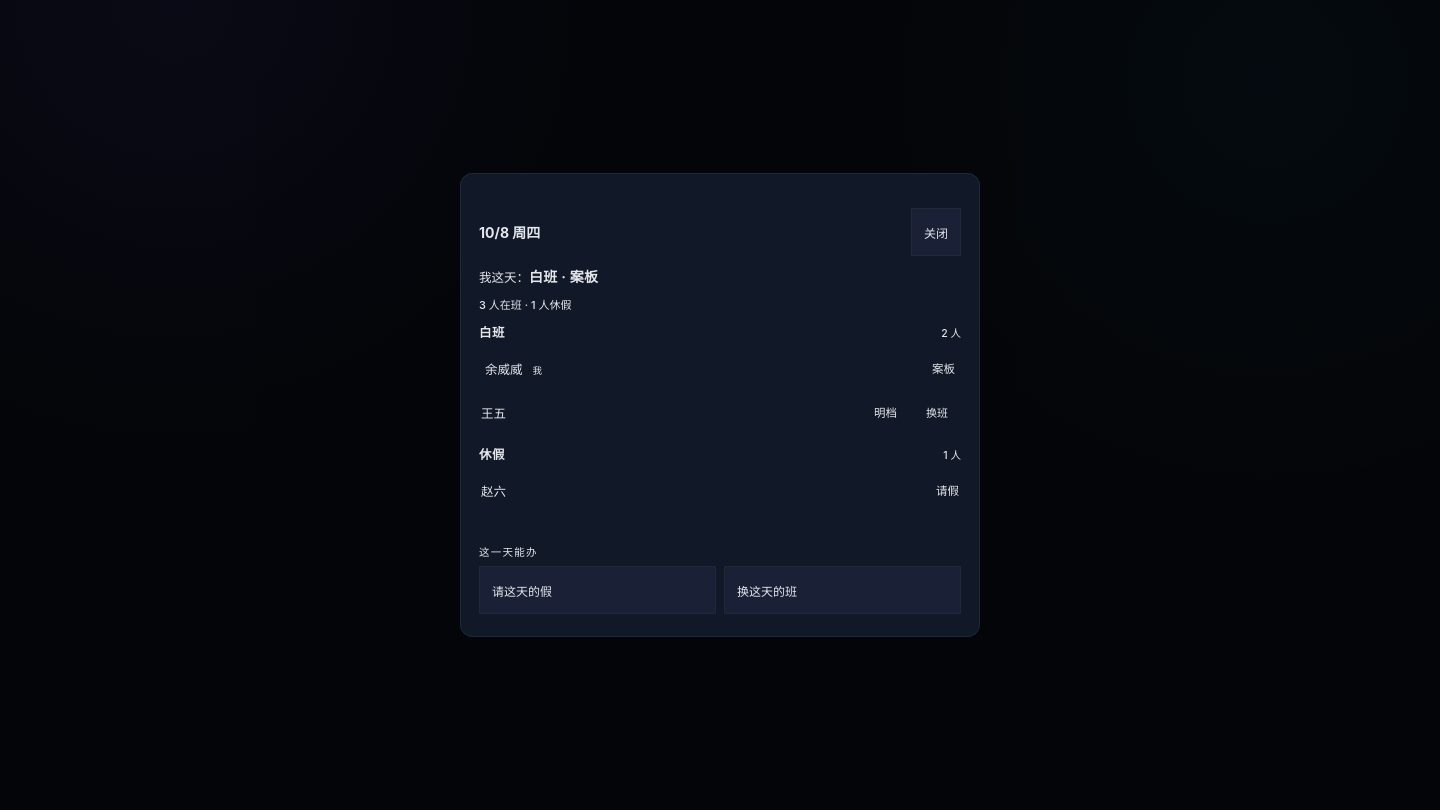
it: 某一天的操作单：点开一天就能把那天的事办掉（票 15） › 点「换这天的班」：先给那天在班的人（去掉我自己），点一个人才有提交
The width and height of the screenshot is (1440, 810).
Click the button "换这天的班" at (842, 590), box [724,566,961,614]
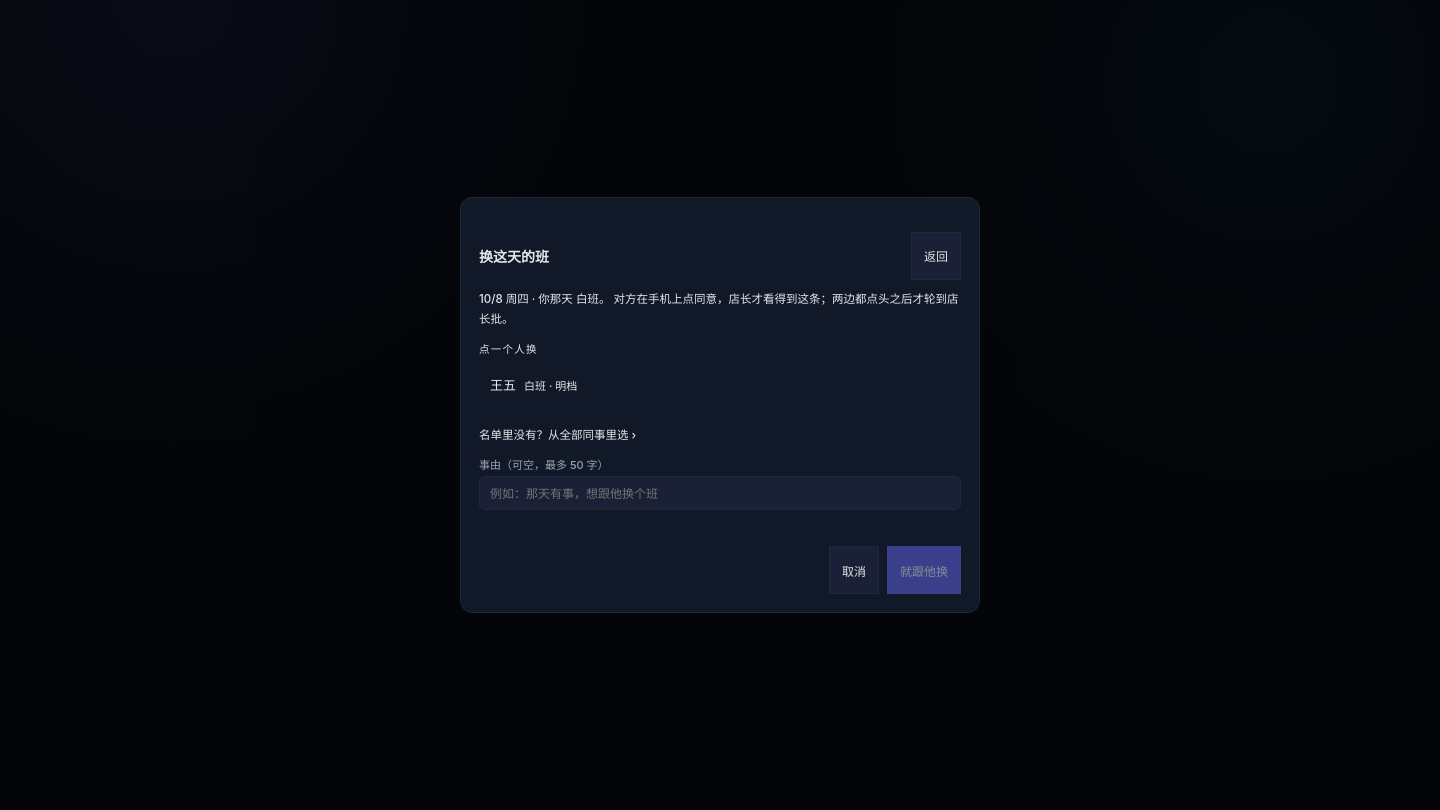
Check: the number of buttons with class "ds-person" is 1
Check: the button with class "ds-person" shows "王五"
Check: the button with class "ds-person" shows "白班 · 明档"
Click the button "王五 白班 · 明档" at (551, 386), box [479,366,961,412]
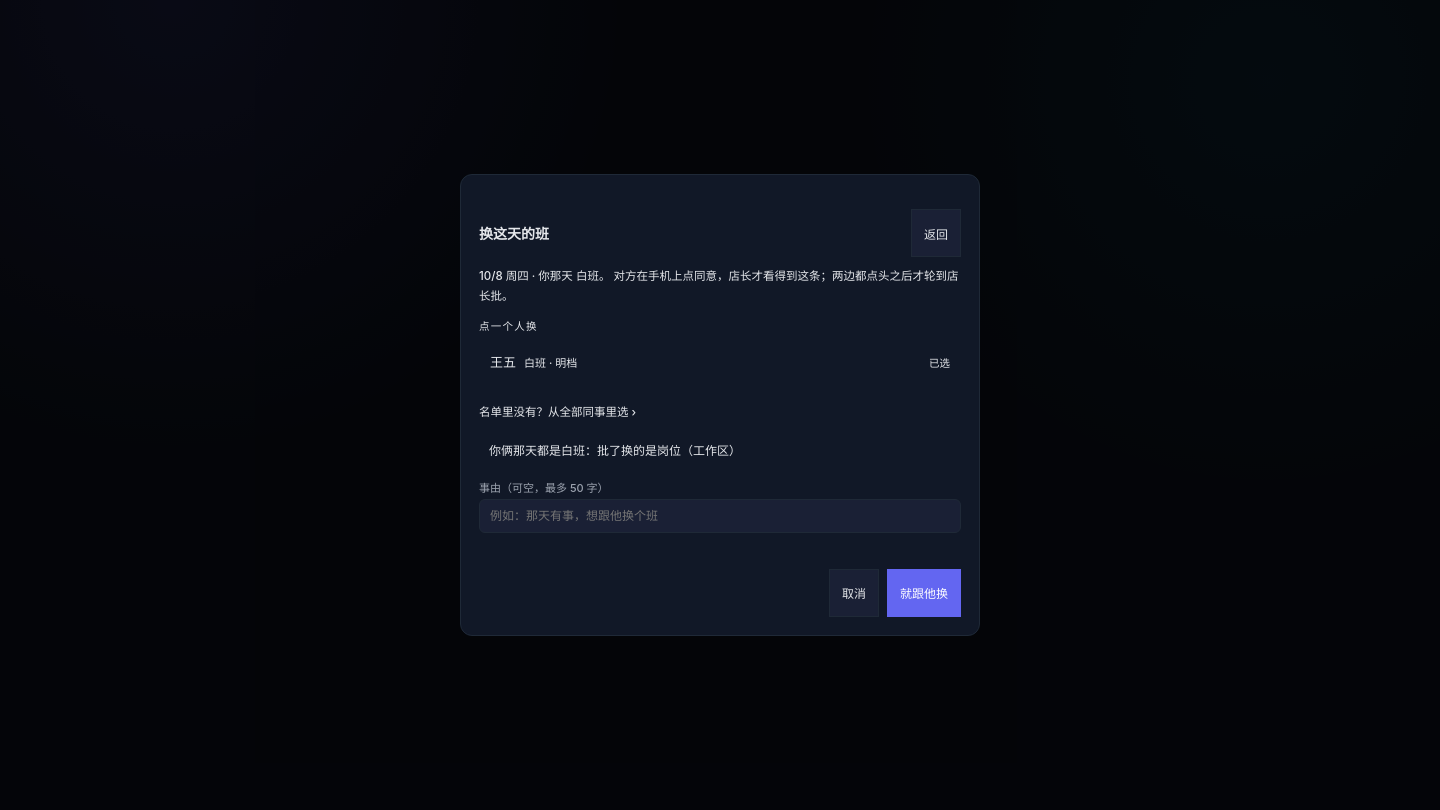
Check: the text "你俩那天都是白班：批了换的是岗位（工作区）" is shown, box [489,444,741,458]
Click the button "就跟他换" at (924, 593), box [887,569,961,617]
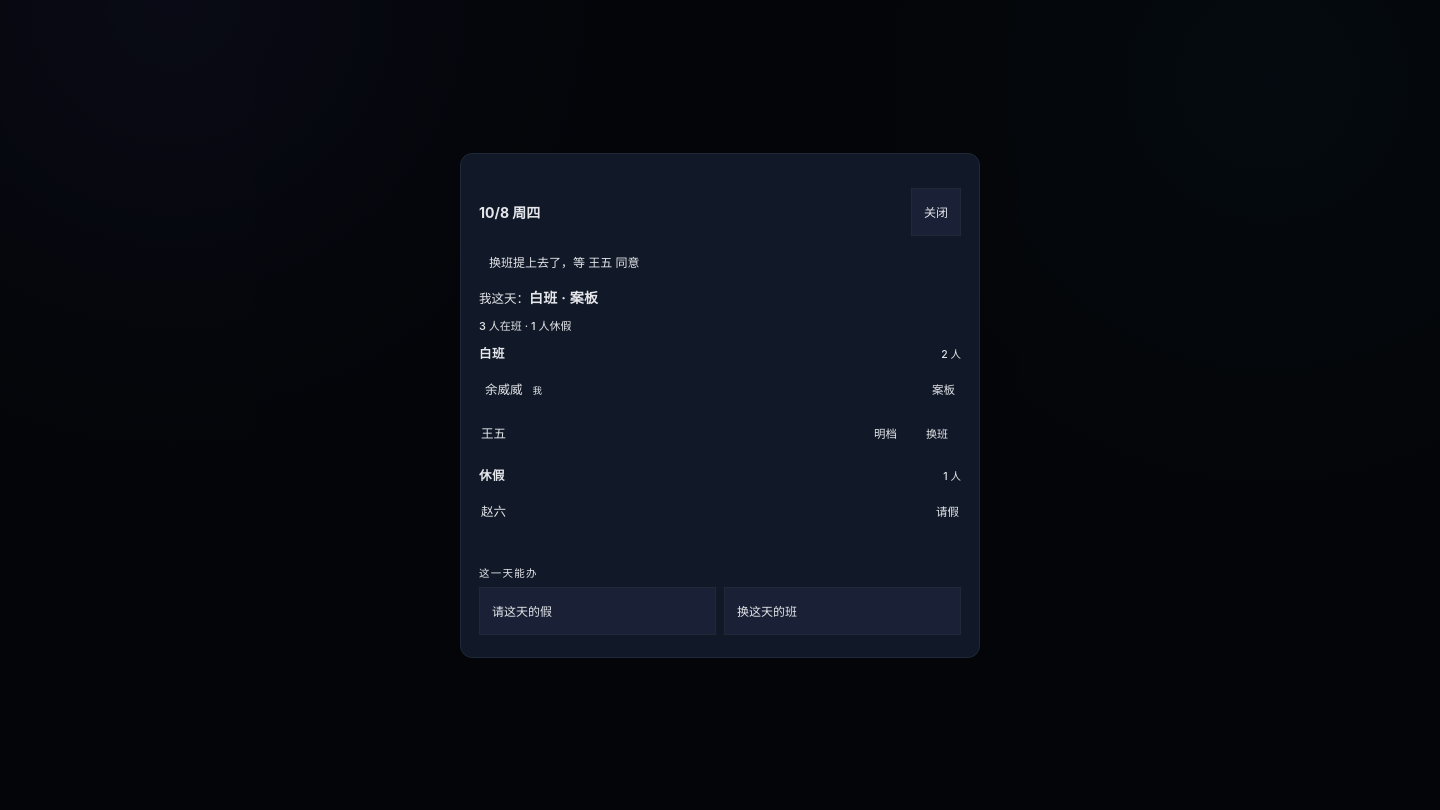
Check: the text "换班提上去了，等 王五 同意" is shown, box [489,254,639,270]
